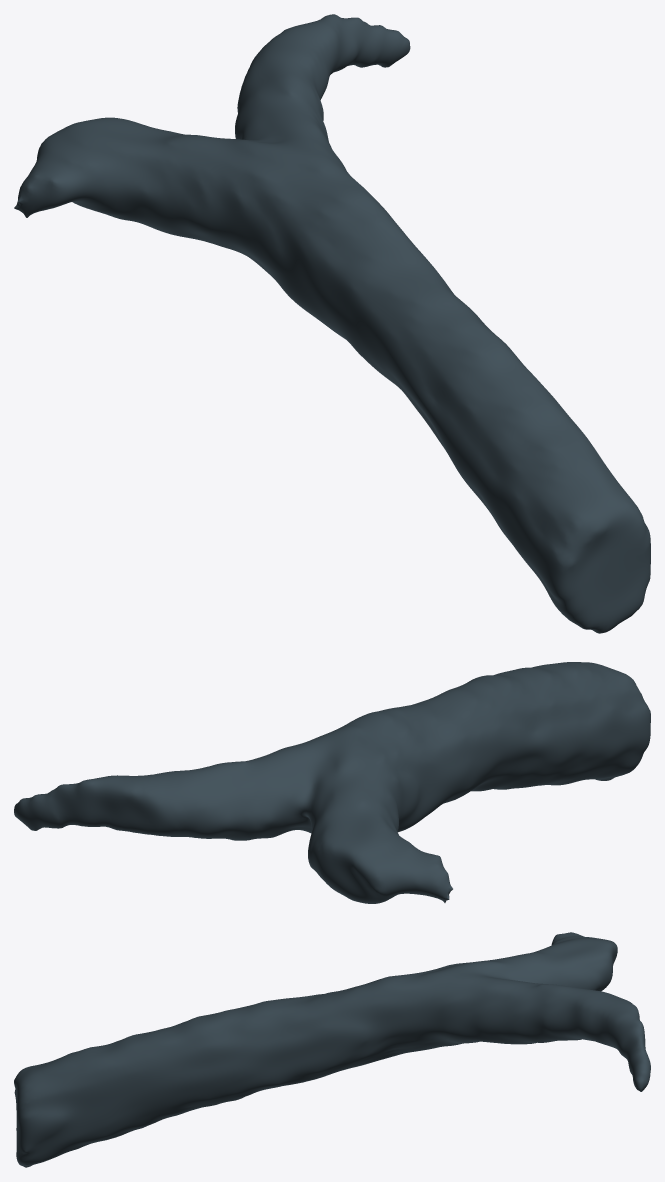
File: trachea.obj
The picture shows the model from 3 angles, top to bottom: view 1: azimuth 30°, elevation 25°; view 2: azimuth 150°, elevation 25°; view 3: azimuth 270°, elevation 25°; orthographic projection. The views are drawn at different scales.
Parts seen in each view (by area): view 1: grp1; view 2: grp1; view 3: grp1.
Boxes of the visible parts, x1,y1,x2,y2 form: grp1: [14, 14, 650, 633]; grp1: [14, 662, 650, 903]; grp1: [14, 932, 650, 1167].
Size of the model in its own units: 85.05 by 50.62 by 147.
